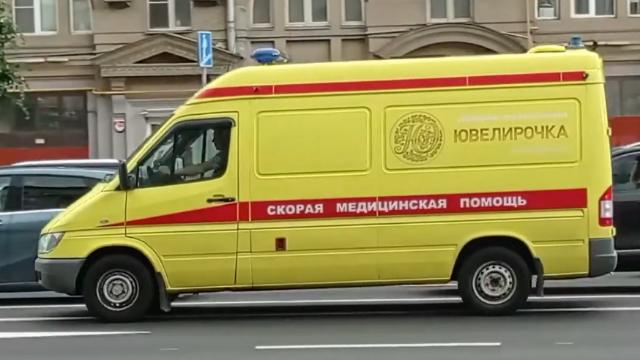intensive care unit: (37, 37, 616, 323)
